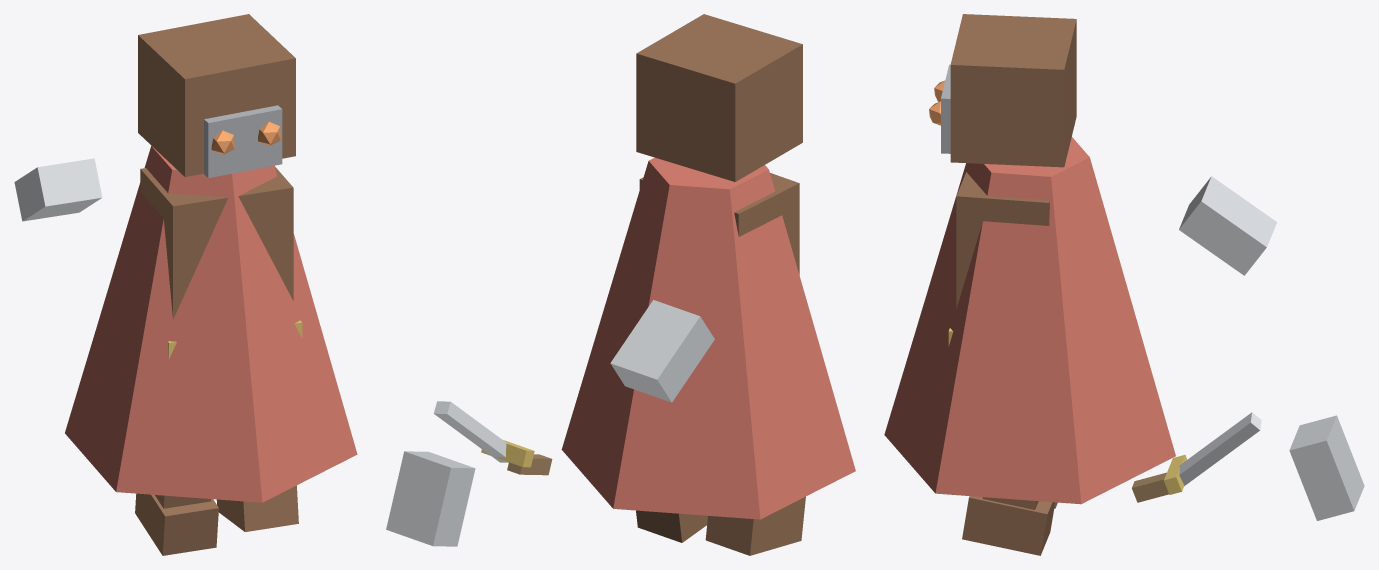
Rendered from npcpose_raider_attack_11.glb.
3 renders of one model, left to right at view 1: azimuth 30°, elevation 25°; view 2: azimuth 150°, elevation 25°; view 3: azimuth 270°, elevation 25°, orthographic.
Parts seen in each view (by area): view 1: npcpose; view 2: npcpose; view 3: npcpose.
Boxes of the visible parts, left/top/right/bottom form: npcpose: left=14, top=14, right=357, bottom=555; npcpose: left=386, top=14, right=855, bottom=555; npcpose: left=884, top=14, right=1364, bottom=555.
Bounding box in the file's own units: 0.9585 × 1.58 × 1.43.
